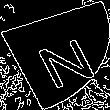N_N: (18, 23, 92, 87)
